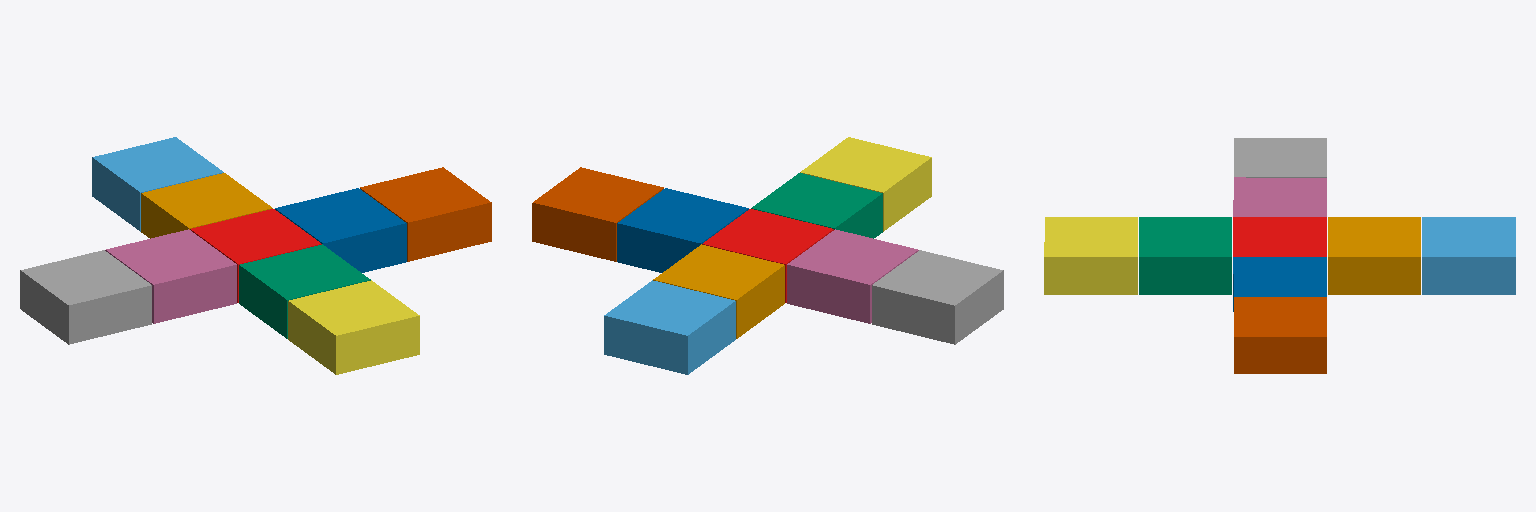
The robot description file, URDF, robot "Model_test":
<?xml version='1.0' encoding='UTF-8'?>
<robot name="Model_test">
  <link name="TEST1_arm1">
    <inertial>
      <origin xyz="0.0 0.34 0.0" rpy="0.0 0.0 0.0"/>
      <mass value="1.0"/>
      <inertia ixx="0.0" ixy="0.0" ixz="0.0" iyy="0.0" iyz="0.0" izz="0.0"/>
    </inertial>
    <visual>
      <geometry>
        <box size="0.67 0.67 0.3 "/>
      </geometry>
      <origin xyz="0.0 0.34 0.0" rpy="0.0 0.0 0.0"/>
    </visual>
    <collision>
      <geometry>
        <box size="0.67 0.67 0.3 "/>
      </geometry>
      <origin xyz="0.0 0.34 0.0" rpy="0.0 0.0 0.0"/>
    </collision>
  </link>
  <link name="TEST1_arm2">
    <inertial>
      <origin xyz="0.0 0.34 0.0" rpy="0.0 0.0 0.0"/>
      <mass value="1.0"/>
      <inertia ixx="0.0" ixy="0.0" ixz="0.0" iyy="0.0" iyz="0.0" izz="0.0"/>
    </inertial>
    <visual>
      <geometry>
        <box size="0.67 0.67 0.3 "/>
      </geometry>
      <origin xyz="0.0 0.34 0.0" rpy="0.0 0.0 0.0"/>
    </visual>
    <collision>
      <geometry>
        <box size="0.67 0.67 0.3 "/>
      </geometry>
      <origin xyz="0.0 0.34 0.0" rpy="0.0 0.0 0.0"/>
    </collision>
  </link>
  <link name="TEST2_arm1">
    <inertial>
      <origin xyz="0.0 0.34 0.0" rpy="0.0 0.0 0.0"/>
      <mass value="1.0"/>
      <inertia ixx="0.0" ixy="0.0" ixz="0.0" iyy="0.0" iyz="0.0" izz="0.0"/>
    </inertial>
    <visual>
      <geometry>
        <box size="0.67 0.67 0.3 "/>
      </geometry>
      <origin xyz="0.0 0.34 0.0" rpy="0.0 0.0 0.0"/>
    </visual>
    <collision>
      <geometry>
        <box size="0.67 0.67 0.3 "/>
      </geometry>
      <origin xyz="0.0 0.34 0.0" rpy="0.0 0.0 0.0"/>
    </collision>
  </link>
  <link name="TEST2_arm2">
    <inertial>
      <origin xyz="0.0 0.34 0.0" rpy="0.0 0.0 0.0"/>
      <mass value="1.0"/>
      <inertia ixx="0.0" ixy="0.0" ixz="0.0" iyy="0.0" iyz="0.0" izz="0.0"/>
    </inertial>
    <visual>
      <geometry>
        <box size="0.67 0.67 0.3 "/>
      </geometry>
      <origin xyz="0.0 0.34 0.0" rpy="0.0 0.0 0.0"/>
    </visual>
    <collision>
      <geometry>
        <box size="0.67 0.67 0.3 "/>
      </geometry>
      <origin xyz="0.0 0.34 0.0" rpy="0.0 0.0 0.0"/>
    </collision>
  </link>
  <link name="TEST3_arm1">
    <inertial>
      <origin xyz="0.0 0.34 0.0" rpy="0.0 0.0 0.0"/>
      <mass value="1.0"/>
      <inertia ixx="0.0" ixy="0.0" ixz="0.0" iyy="0.0" iyz="0.0" izz="0.0"/>
    </inertial>
    <visual>
      <geometry>
        <box size="0.67 0.67 0.3 "/>
      </geometry>
      <origin xyz="0.0 0.34 0.0" rpy="0.0 0.0 0.0"/>
    </visual>
    <collision>
      <geometry>
        <box size="0.67 0.67 0.3 "/>
      </geometry>
      <origin xyz="0.0 0.34 0.0" rpy="0.0 0.0 0.0"/>
    </collision>
  </link>
  <link name="TEST3_arm2">
    <inertial>
      <origin xyz="0.0 0.34 0.0" rpy="0.0 0.0 0.0"/>
      <mass value="1.0"/>
      <inertia ixx="0.0" ixy="0.0" ixz="0.0" iyy="0.0" iyz="0.0" izz="0.0"/>
    </inertial>
    <visual>
      <geometry>
        <box size="0.67 0.67 0.3 "/>
      </geometry>
      <origin xyz="0.0 0.34 0.0" rpy="0.0 0.0 0.0"/>
    </visual>
    <collision>
      <geometry>
        <box size="0.67 0.67 0.3 "/>
      </geometry>
      <origin xyz="0.0 0.34 0.0" rpy="0.0 0.0 0.0"/>
    </collision>
  </link>
  <link name="TEST4_arm1">
    <inertial>
      <origin xyz="0.0 0.34 0.0" rpy="0.0 0.0 0.0"/>
      <mass value="1.0"/>
      <inertia ixx="0.0" ixy="0.0" ixz="0.0" iyy="0.0" iyz="0.0" izz="0.0"/>
    </inertial>
    <visual>
      <geometry>
        <box size="0.67 0.67 0.3 "/>
      </geometry>
      <origin xyz="0.0 0.34 0.0" rpy="0.0 0.0 0.0"/>
    </visual>
    <collision>
      <geometry>
        <box size="0.67 0.67 0.3 "/>
      </geometry>
      <origin xyz="0.0 0.34 0.0" rpy="0.0 0.0 0.0"/>
    </collision>
  </link>
  <link name="TEST4_arm2">
    <inertial>
      <origin xyz="0.0 0.34 0.0" rpy="0.0 0.0 0.0"/>
      <mass value="1.0"/>
      <inertia ixx="0.0" ixy="0.0" ixz="0.0" iyy="0.0" iyz="0.0" izz="0.0"/>
    </inertial>
    <visual>
      <geometry>
        <box size="0.67 0.67 0.3 "/>
      </geometry>
      <origin xyz="0.0 0.34 0.0" rpy="0.0 0.0 0.0"/>
    </visual>
    <collision>
      <geometry>
        <box size="0.67 0.67 0.3 "/>
      </geometry>
      <origin xyz="0.0 0.34 0.0" rpy="0.0 0.0 0.0"/>
    </collision>
  </link>
  <link name="base_link">
    <inertial>
      <origin xyz="0.0 0.0 0.0" rpy="0.0 -0.0 0.0"/>
      <mass value="1.0"/>
      <inertia ixx="1.0" ixy="0.0" ixz="0.0" iyy="1.0" iyz="0.0" izz="1.0"/>
    </inertial>
    <visual>
      <geometry>
        <box size="0.67 0.67 0.3 "/>
      </geometry>
      <material name="red"/>
      <origin xyz="0.0 0.0 0.0" rpy="0.0 -0.0 0.0"/>
    </visual>
    <collision>
      <geometry>
        <box size="0.67 0.67 0.3 "/>
      </geometry>
      <origin xyz="0.0 0.0 0.0" rpy="0.0 0.0 0.0"/>
    </collision>
  </link>
  <joint name="TEST1_jointBase" type="fixed">
    <limit effort="1.0" velocity="1.0" lower="-1.0" upper="1.0"/>
    <parent link="base_link"/>
    <child link="TEST1_arm1"/>
    <axis xyz="1. 0. 0."/>
    <origin xyz="0.0 0.34 0.0" rpy="0.0 0.0 0.0"/>
  </joint>
  <joint name="TEST1_joint1" type="revolute">
    <limit effort="1.0" velocity="1.0" lower="-1.0" upper="1.0"/>
    <parent link="TEST1_arm1"/>
    <child link="TEST1_arm2"/>
    <axis xyz="1. 0. 0."/>
    <origin xyz="0.0 0.68 0.0" rpy="0.0 0.0 0.0"/>
  </joint>
  <joint name="TEST2_jointBase" type="fixed">
    <limit effort="1.0" velocity="1.0" lower="-1.0" upper="1.0"/>
    <parent link="base_link"/>
    <child link="TEST2_arm1"/>
    <axis xyz="1. 0. 0."/>
    <origin xyz="0.0 -0.34 0.0" rpy="0.0 0.0 3.141"/>
  </joint>
  <joint name="TEST2_joint1" type="revolute">
    <limit effort="1.0" velocity="1.0" lower="-1.0" upper="1.0"/>
    <parent link="TEST2_arm1"/>
    <child link="TEST2_arm2"/>
    <axis xyz="1. 0. 0."/>
    <origin xyz="0.0 0.68 0.0" rpy="0.0 0.0 0.0"/>
  </joint>
  <joint name="TEST3_jointBase" type="fixed">
    <limit effort="1.0" velocity="1.0" lower="-1.0" upper="1.0"/>
    <parent link="base_link"/>
    <child link="TEST3_arm1"/>
    <axis xyz="1. 0. 0."/>
    <origin xyz="0.34 0.0 0.0" rpy="0.0 0.0 -1.57"/>
  </joint>
  <joint name="TEST3_joint1" type="revolute">
    <limit effort="1.0" velocity="1.0" lower="-1.0" upper="1.0"/>
    <parent link="TEST3_arm1"/>
    <child link="TEST3_arm2"/>
    <axis xyz="1. 0. 0."/>
    <origin xyz="0.0 0.68 0.0" rpy="0.0 0.0 0.0"/>
  </joint>
  <joint name="TEST4_jointBase" type="fixed">
    <limit effort="1.0" velocity="1.0" lower="-1.0" upper="1.0"/>
    <parent link="base_link"/>
    <child link="TEST4_arm1"/>
    <axis xyz="1. 0. 0."/>
    <origin xyz="-0.34 0.0 0.0" rpy="0.0 0.0 1.57"/>
  </joint>
  <joint name="TEST4_joint1" type="revolute">
    <limit effort="1.0" velocity="1.0" lower="-1.0" upper="1.0"/>
    <parent link="TEST4_arm1"/>
    <child link="TEST4_arm2"/>
    <axis xyz="1. 0. 0."/>
    <origin xyz="0.0 0.68 0.0" rpy="0.0 0.0 0.0"/>
  </joint>
  <material name="red">
    <color rgba="0.969 0.129 0.122 1.   "/>
  </material>
</robot>

--- Render facts (derived) ---
3 views of the same robot in one strip: view 1: azimuth 30°, elevation 25°; view 2: azimuth 150°, elevation 25°; view 3: azimuth 270°, elevation 25° (orthographic).
Model Model_test with 9 links and 8 joints (4 revolute, 4 fixed), rooted at base_link, posed every joint at zero.
Visible links, largest first — view 1: TEST4_arm2, TEST2_arm2, TEST3_arm2, TEST4_arm1, TEST3_arm1, TEST2_arm1, TEST1_arm2, TEST1_arm1, base_link; view 2: TEST4_arm2, TEST1_arm2, TEST4_arm1, TEST3_arm2, TEST3_arm1, TEST1_arm1, TEST2_arm2, TEST2_arm1, base_link; view 3: TEST1_arm2, TEST2_arm2, TEST1_arm1, TEST2_arm1, TEST3_arm2, TEST3_arm1, base_link, TEST4_arm2, TEST4_arm1.
Boxes of the visible links, left/top/right/bottom form: TEST4_arm2: left=20, top=250, right=151, bottom=344; TEST2_arm2: left=288, top=280, right=419, bottom=374; TEST3_arm2: left=360, top=167, right=491, bottom=261; TEST4_arm1: left=105, top=229, right=236, bottom=323; TEST3_arm1: left=275, top=188, right=406, bottom=272; TEST2_arm1: left=239, top=244, right=370, bottom=338; TEST1_arm2: left=92, top=137, right=223, bottom=231; TEST1_arm1: left=141, top=173, right=272, bottom=238; base_link: left=190, top=209, right=321, bottom=302; TEST4_arm2: left=872, top=250, right=1003, bottom=344; TEST1_arm2: left=604, top=280, right=735, bottom=374; TEST4_arm1: left=787, top=229, right=918, bottom=323; TEST3_arm2: left=532, top=167, right=663, bottom=261; TEST3_arm1: left=617, top=188, right=748, bottom=272; TEST1_arm1: left=653, top=244, right=784, bottom=338; TEST2_arm2: left=800, top=137, right=931, bottom=231; TEST2_arm1: left=751, top=173, right=882, bottom=238; base_link: left=702, top=209, right=833, bottom=302; TEST1_arm2: left=1422, top=217, right=1515, bottom=294; TEST2_arm2: left=1044, top=217, right=1137, bottom=294; TEST1_arm1: left=1328, top=217, right=1420, bottom=294; TEST2_arm1: left=1139, top=217, right=1231, bottom=294; TEST3_arm2: left=1234, top=297, right=1326, bottom=373; TEST3_arm1: left=1233, top=257, right=1326, bottom=311; base_link: left=1233, top=217, right=1326, bottom=256; TEST4_arm2: left=1234, top=138, right=1326, bottom=177; TEST4_arm1: left=1233, top=177, right=1326, bottom=216.
Bounding box of the posed robot: 3.39 × 3.39 × 0.3 m (x, y, z).
Geometry: primitives only (box / cylinder / sphere), no mesh files.